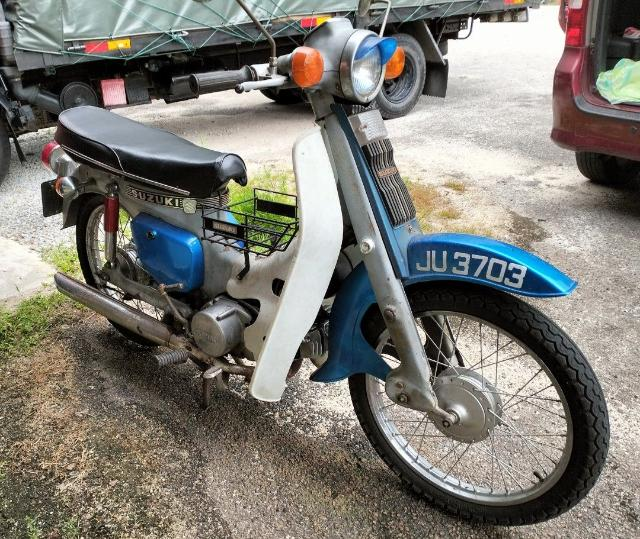License_Plate: (410, 247, 530, 293)
motorcycle: (40, 14, 611, 529)
